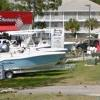Boat: (2, 36, 69, 89)
